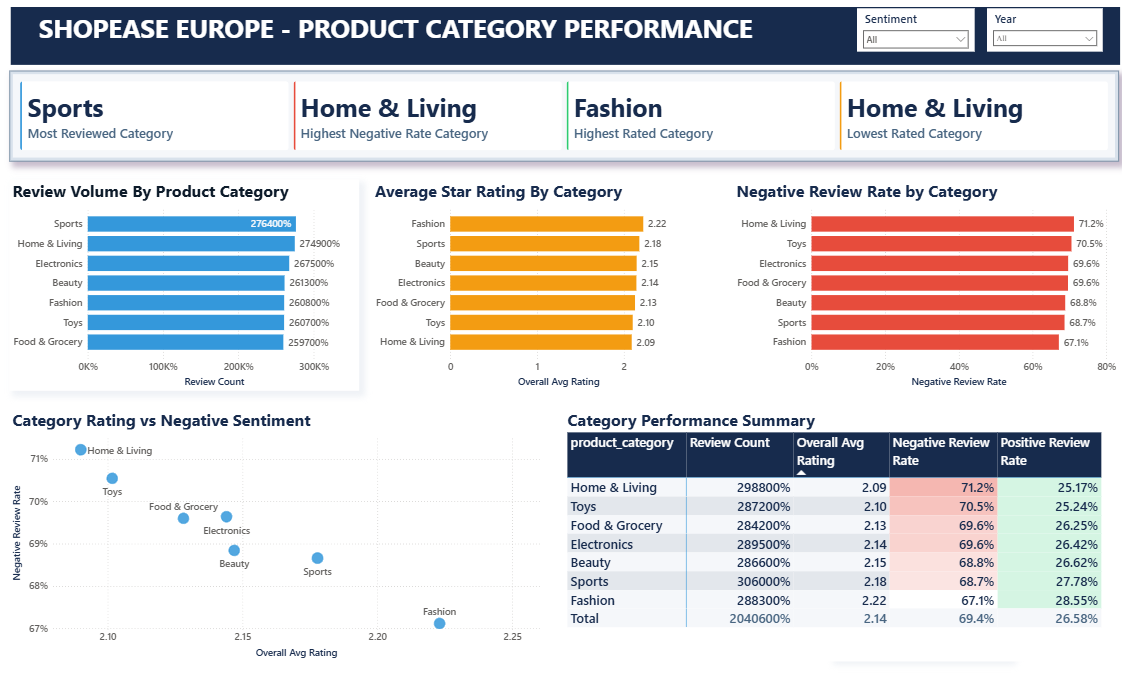

The page's visual inventory and layout, read from the dashboard file:
{"tool":"powerbi","page":{"name":"Category Performance","canvas":[1900,1200],"ordinal":2},"visuals":[{"type":"shape","box":[32,24,1840,96],"z":0},{"type":"textbox","box":[72,24,1248,72],"z":1000},{"type":"slicer","fields":{"Values":["amazon_reviews_cleaned_processe.sentiment"]},"box":[1434,27,195,72],"z":2000},{"type":"slicer","fields":{"Values":["amazon_reviews_cleaned_processe.year"]},"box":[1650,27,192,72],"z":3000},{"type":"cardVisual","fields":{"Data":["Sheet1.Most Reviewed Category","Sheet1.Highest Negative Rate Category","Sheet1.Highest Rated Category","Sheet1.Lowest Rated Category"]},"box":[30,130,1840,150],"z":4000},{"type":"barChart","title":"Review Volume By Product Category","fields":{"Category":["amazon_reviews_cleaned_processe.product_category"],"Y":["amazon_reviews_cleaned_processe.Review Count"]},"box":[30,310,580,350],"z":5000},{"type":"barChart","title":"Product Category Performance","fields":{"Category":["amazon_reviews_cleaned_processe.product_category"],"Series":["amazon_reviews_cleaned_processe.sentiment"],"Y":["amazon_reviews_cleaned_processe.Review Count"]},"box":[1392,840,297.8,266.2],"z":6000},{"type":"clusteredBarChart","title":"Negative Review Rate by Category","fields":{"Category":["amazon_reviews_cleaned_processe.product_category"],"Y":["amazon_reviews_cleaned_processe.Negative Review Rate"]},"box":[1230,310,640,350],"z":7000},{"type":"clusteredBarChart","title":"Average Star Rating By Category","fields":{"Category":["amazon_reviews_cleaned_processe.product_category"],"Y":["amazon_reviews_cleaned_processe.Overall Avg Rating"]},"box":[630,310,500,350],"z":8000},{"type":"scatterChart","title":"Category Rating vs Negative Sentiment","fields":{"Category":["amazon_reviews_cleaned_processe.product_category"],"Size":["amazon_reviews_cleaned_processe.Review Count"],"X":["amazon_reviews_cleaned_processe.Overall Avg Rating"],"Y":["amazon_reviews_cleaned_processe.Negative Review Rate"]},"box":[30,690,900,420],"z":9000},{"type":"pivotTable","title":"Category Performance Summary","fields":{"Rows":["amazon_reviews_cleaned_processe.product_category"],"Values":["amazon_reviews_cleaned_processe.Review Count","amazon_reviews_cleaned_processe.Overall Avg Rating","amazon_reviews_cleaned_processe.Negative Review Rate","amazon_reviews_cleaned_processe.Positive Review Rate"]},"box":[950,690,920,420],"z":10000}]}

Visuals, with their boxes on the page's 1900x1200 design canvas (x1, y1, x2, y2). These are canvas units, not pixel positions in the 1122x679 screenshot, which may show the page scaled, cropped or inside an application window:
shape: (32,24,1872,120)
textbox: (72,24,1320,96)
slicer - amazon_reviews_cleaned_processe.sentiment: (1434,27,1629,99)
slicer - amazon_reviews_cleaned_processe.year: (1650,27,1842,99)
cardVisual - Sheet1.Most Reviewed Category x Sheet1.Highest Negative Rate Category: (30,130,1870,280)
"Review Volume By Product Category" barChart: (30,310,610,660)
"Product Category Performance" barChart: (1392,840,1690,1106)
"Negative Review Rate by Category" clusteredBarChart: (1230,310,1870,660)
"Average Star Rating By Category" clusteredBarChart: (630,310,1130,660)
"Category Rating vs Negative Sentiment" scatterChart: (30,690,930,1110)
"Category Performance Summary" pivotTable: (950,690,1870,1110)
